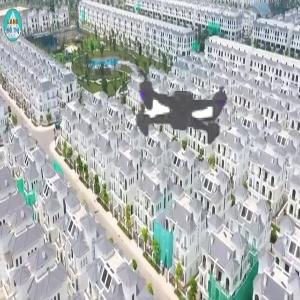drone: (74, 2, 299, 227)
